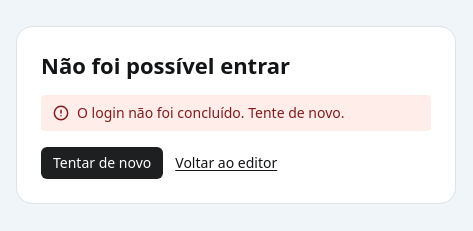
Scenario: AuthCallbackPage › tentar de novo pede um login novo para o editor e mostra o progresso
Click the button "Tentar de novo" at coordinates (102, 163), box [41,147,163,179]
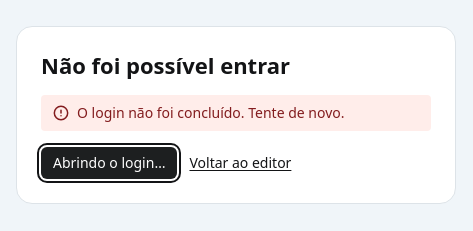
Check: the button "Abrindo o login…" is disabled
Click the button "Abrindo o login…" at coordinates (109, 163), box [41,147,178,179]
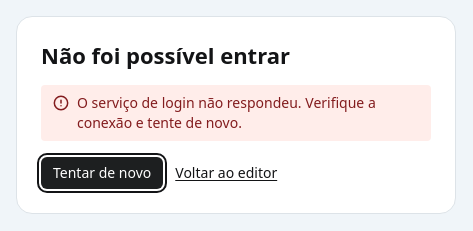
Check: the message shows "Verifique a conexão", box [77,93,376,132]
